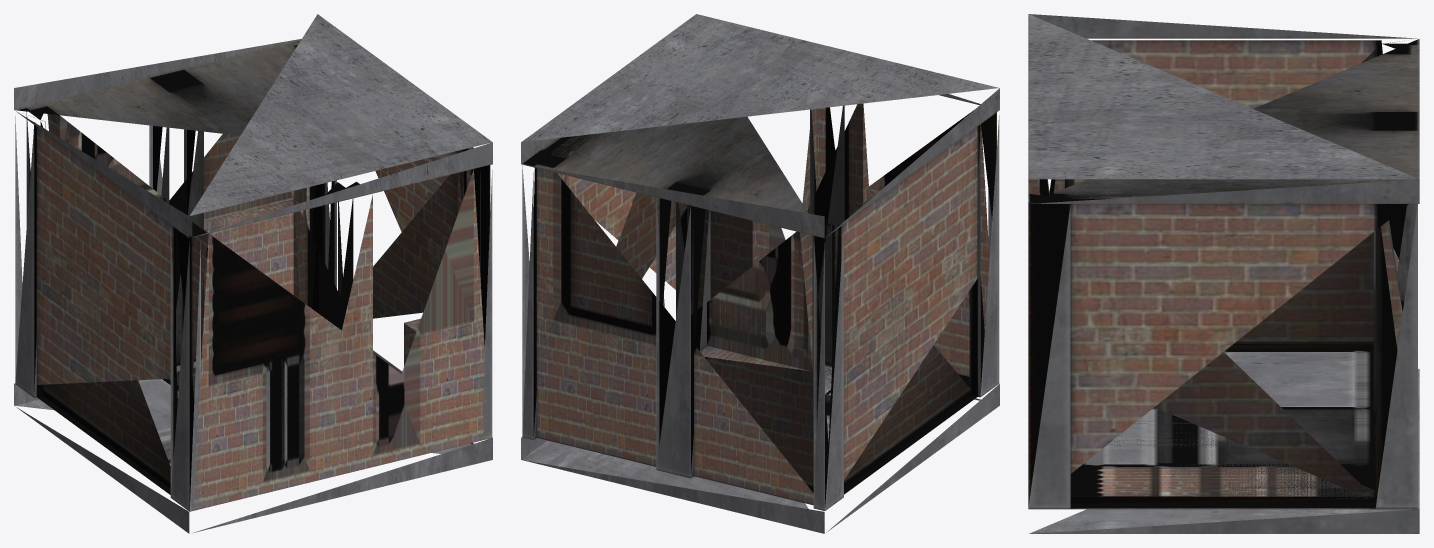
The model's file is balcony.obj.
3 renders of one model, left to right at view 1: azimuth 30°, elevation 25°; view 2: azimuth 150°, elevation 25°; view 3: azimuth 270°, elevation 25°, orthographic. The views are drawn at different scales.
Parts seen in each view (by area): view 1: BalconyModel0; view 2: BalconyModel0; view 3: BalconyModel0.
Part boxes in pixels (left/top/right/bottom): BalconyModel0: left=14, top=14, right=492, bottom=533; BalconyModel0: left=521, top=14, right=999, bottom=533; BalconyModel0: left=1028, top=14, right=1419, bottom=533.
Size of the model in its own units: 1 by 1 by 1.
Materials: 1 (1 with a texture image).
